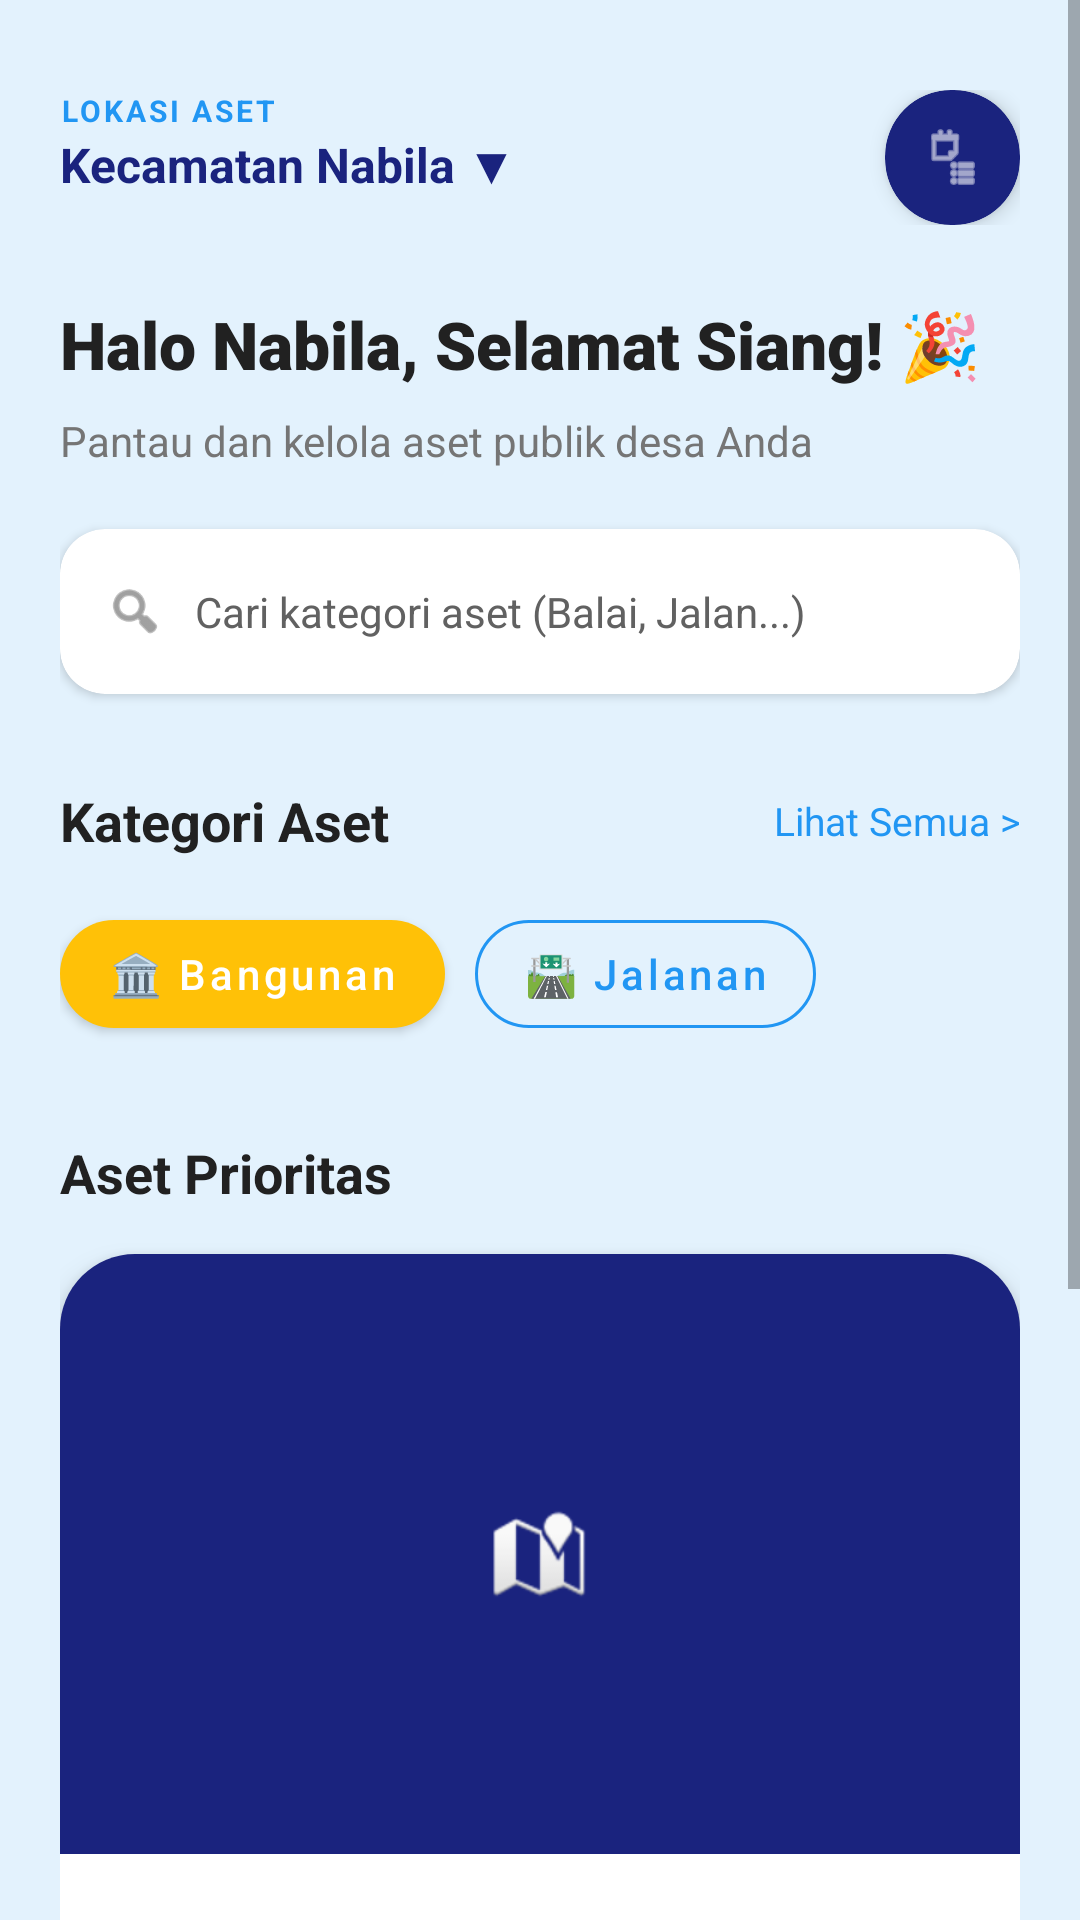

Named icons in this screenshot (1080px×1920px) and their centers, (x=x, y=y):
search: (x=135, y=611)
